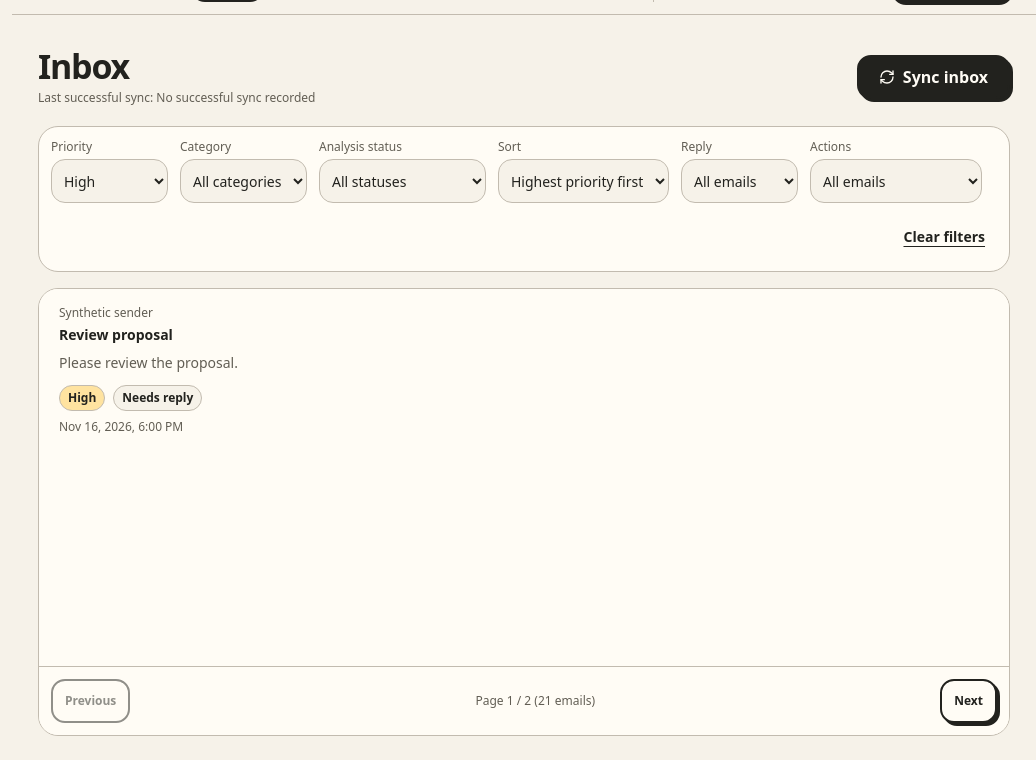
Scenario: paginates using server totals and preserves filters
The image size is (1036, 760).
(page scrolled)
Expected: the text "Review proposal" is shown, [59,326,173,344]
Expected: the button "Previous" is disabled, [51,680,130,724]
Click the button "Next". click: (969, 702)
box: [940,680,997,724]
(page scrolled)
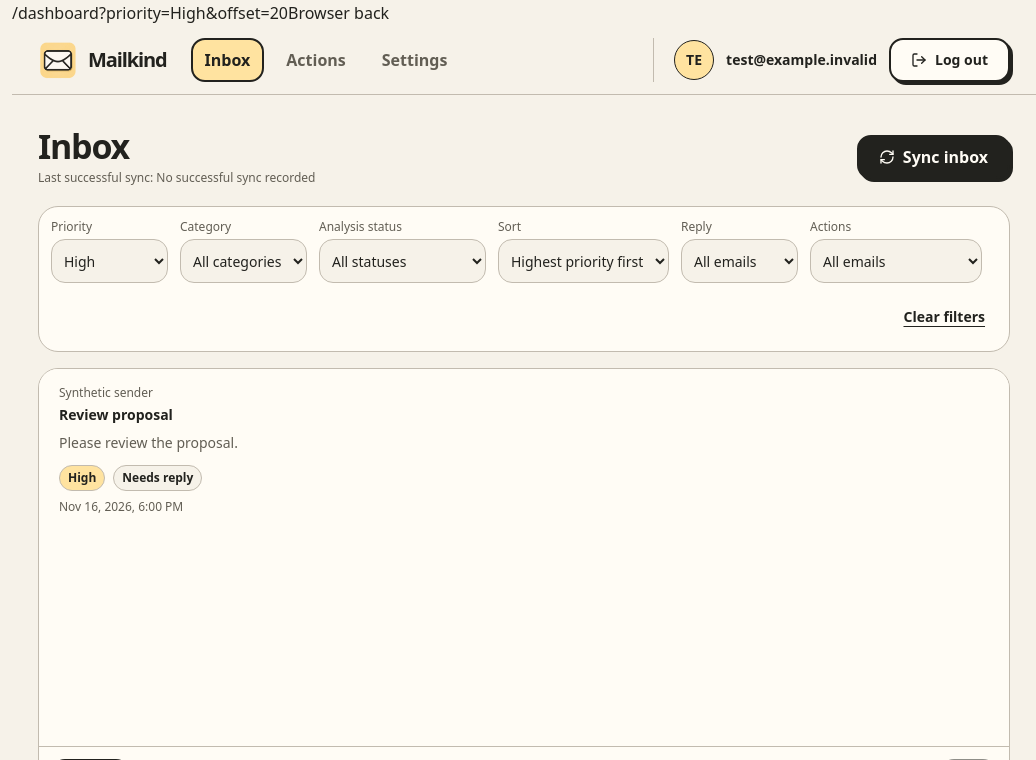
Expected: the text named "Current URL" shows "priority=High&offset=20", [99,2,288,24]
